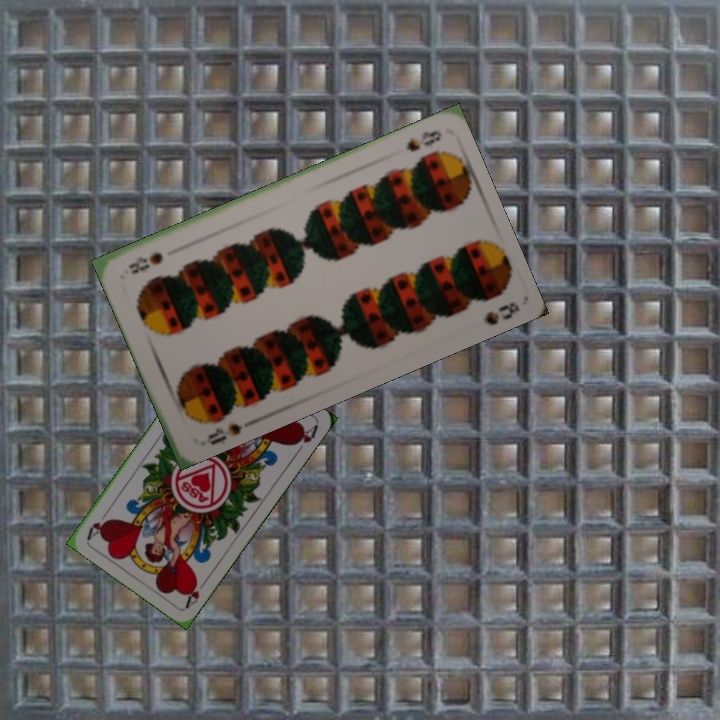HA: (181, 575, 210, 610)
S8: (402, 126, 445, 155), (204, 418, 245, 448)
